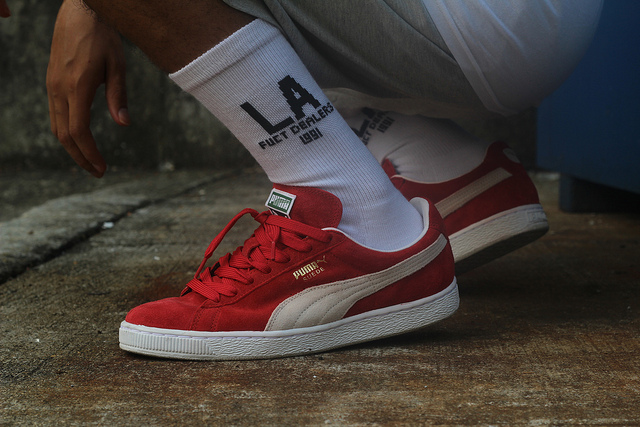Puma Suede Low Red: (110, 171, 461, 362)
